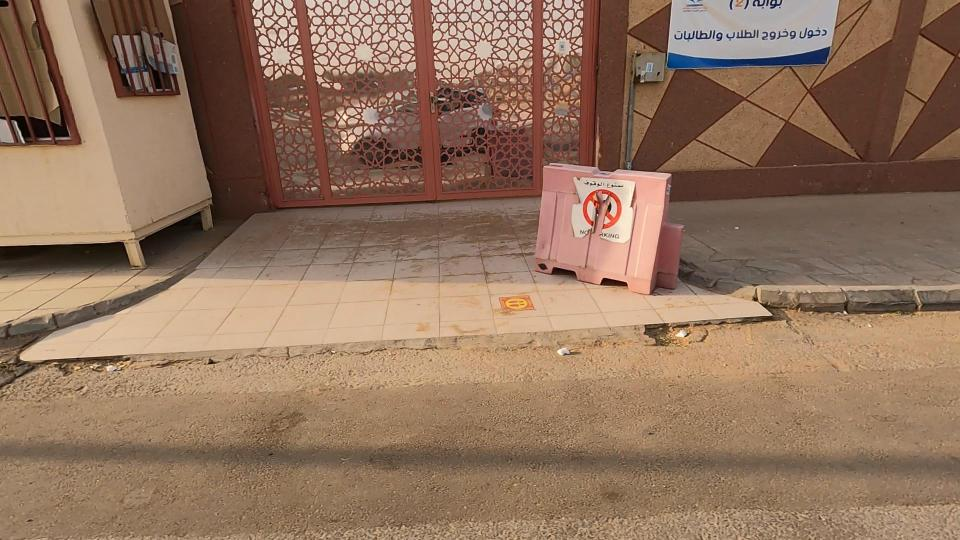BROKEN_SIGNAGE: (533, 132, 671, 289)
GARBAGE: (525, 320, 610, 392), (655, 311, 705, 358)
